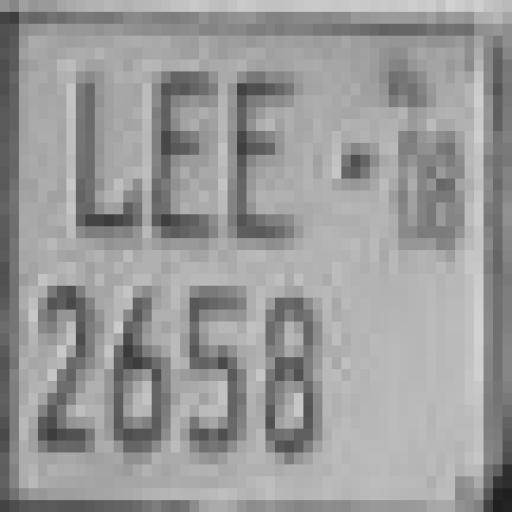2: (30, 279, 100, 458)
5: (180, 277, 252, 473)
6: (108, 286, 172, 474)
8: (261, 294, 333, 484)
E: (142, 65, 219, 245), (228, 56, 301, 242)
L: (71, 72, 142, 232)
